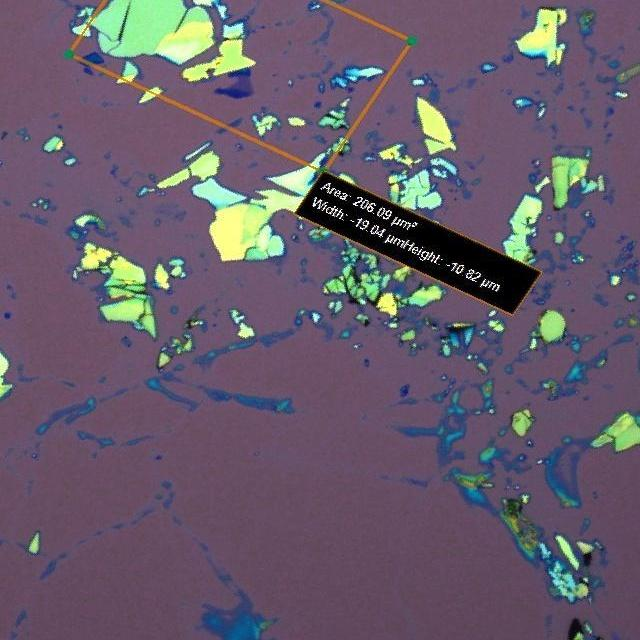monolayer-eWW4: (228, 76, 252, 92)
